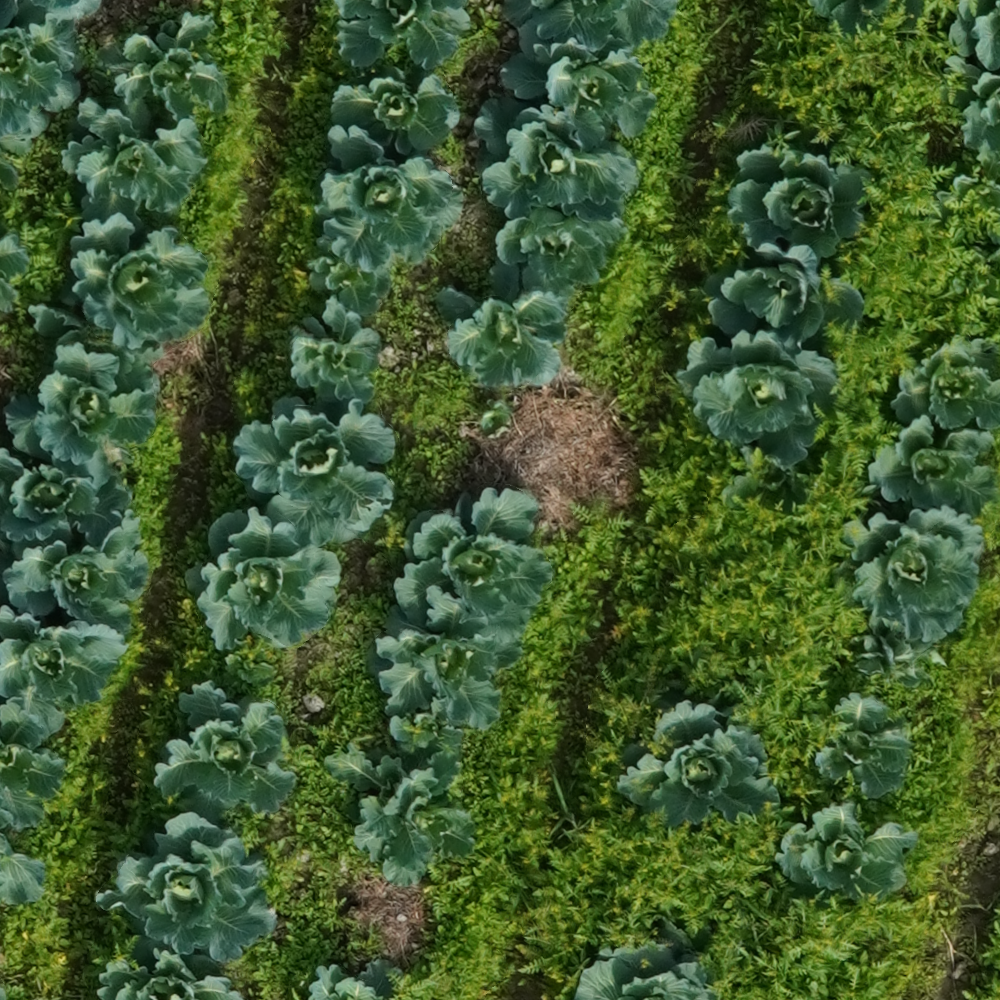Cabbage: (2, 302, 162, 487), (95, 811, 279, 964), (325, 714, 476, 887), (232, 395, 396, 547), (394, 489, 554, 643), (365, 584, 527, 730), (183, 507, 342, 652), (675, 330, 839, 470), (315, 125, 464, 271), (832, 506, 986, 647), (615, 700, 780, 825), (474, 99, 640, 223), (61, 213, 209, 350), (155, 680, 299, 820), (61, 95, 207, 227), (2, 510, 152, 635), (435, 257, 574, 389), (702, 243, 865, 355), (499, 34, 657, 149), (0, 605, 126, 746), (727, 144, 876, 263), (96, 11, 231, 127), (775, 800, 919, 901), (862, 415, 1000, 519), (1, 448, 132, 543), (495, 207, 630, 298), (574, 918, 723, 999), (289, 295, 383, 422), (0, 13, 82, 158), (330, 65, 460, 156), (889, 333, 1000, 431), (503, 0, 680, 61), (816, 691, 916, 798), (334, 0, 473, 70), (97, 947, 244, 1000), (940, 56, 1000, 184), (720, 446, 810, 516), (850, 628, 950, 690), (0, 741, 66, 834), (307, 256, 392, 314), (935, 175, 1000, 245), (308, 958, 398, 1000), (948, 1, 1000, 70), (0, 833, 47, 906), (0, 0, 103, 28), (0, 234, 33, 315), (480, 399, 514, 439)
